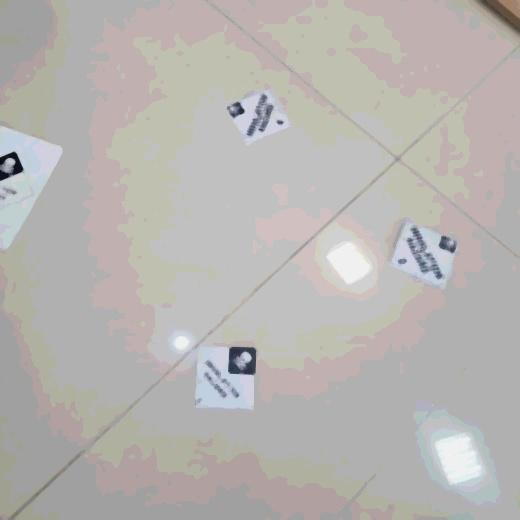poison: (391, 219, 458, 285), (193, 347, 258, 412), (225, 87, 292, 148)
